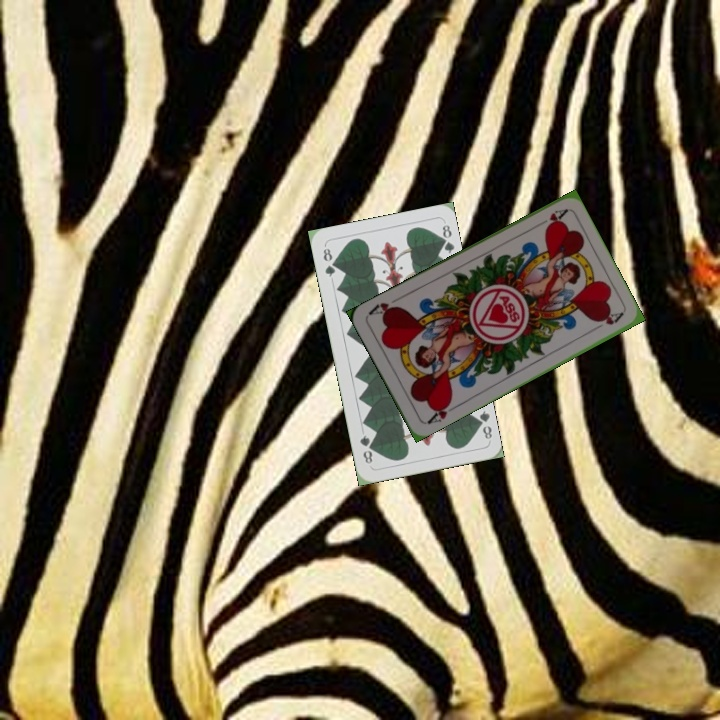G8: (471, 406, 495, 442), (319, 244, 338, 280)
HA: (423, 397, 460, 427), (531, 205, 569, 231)
